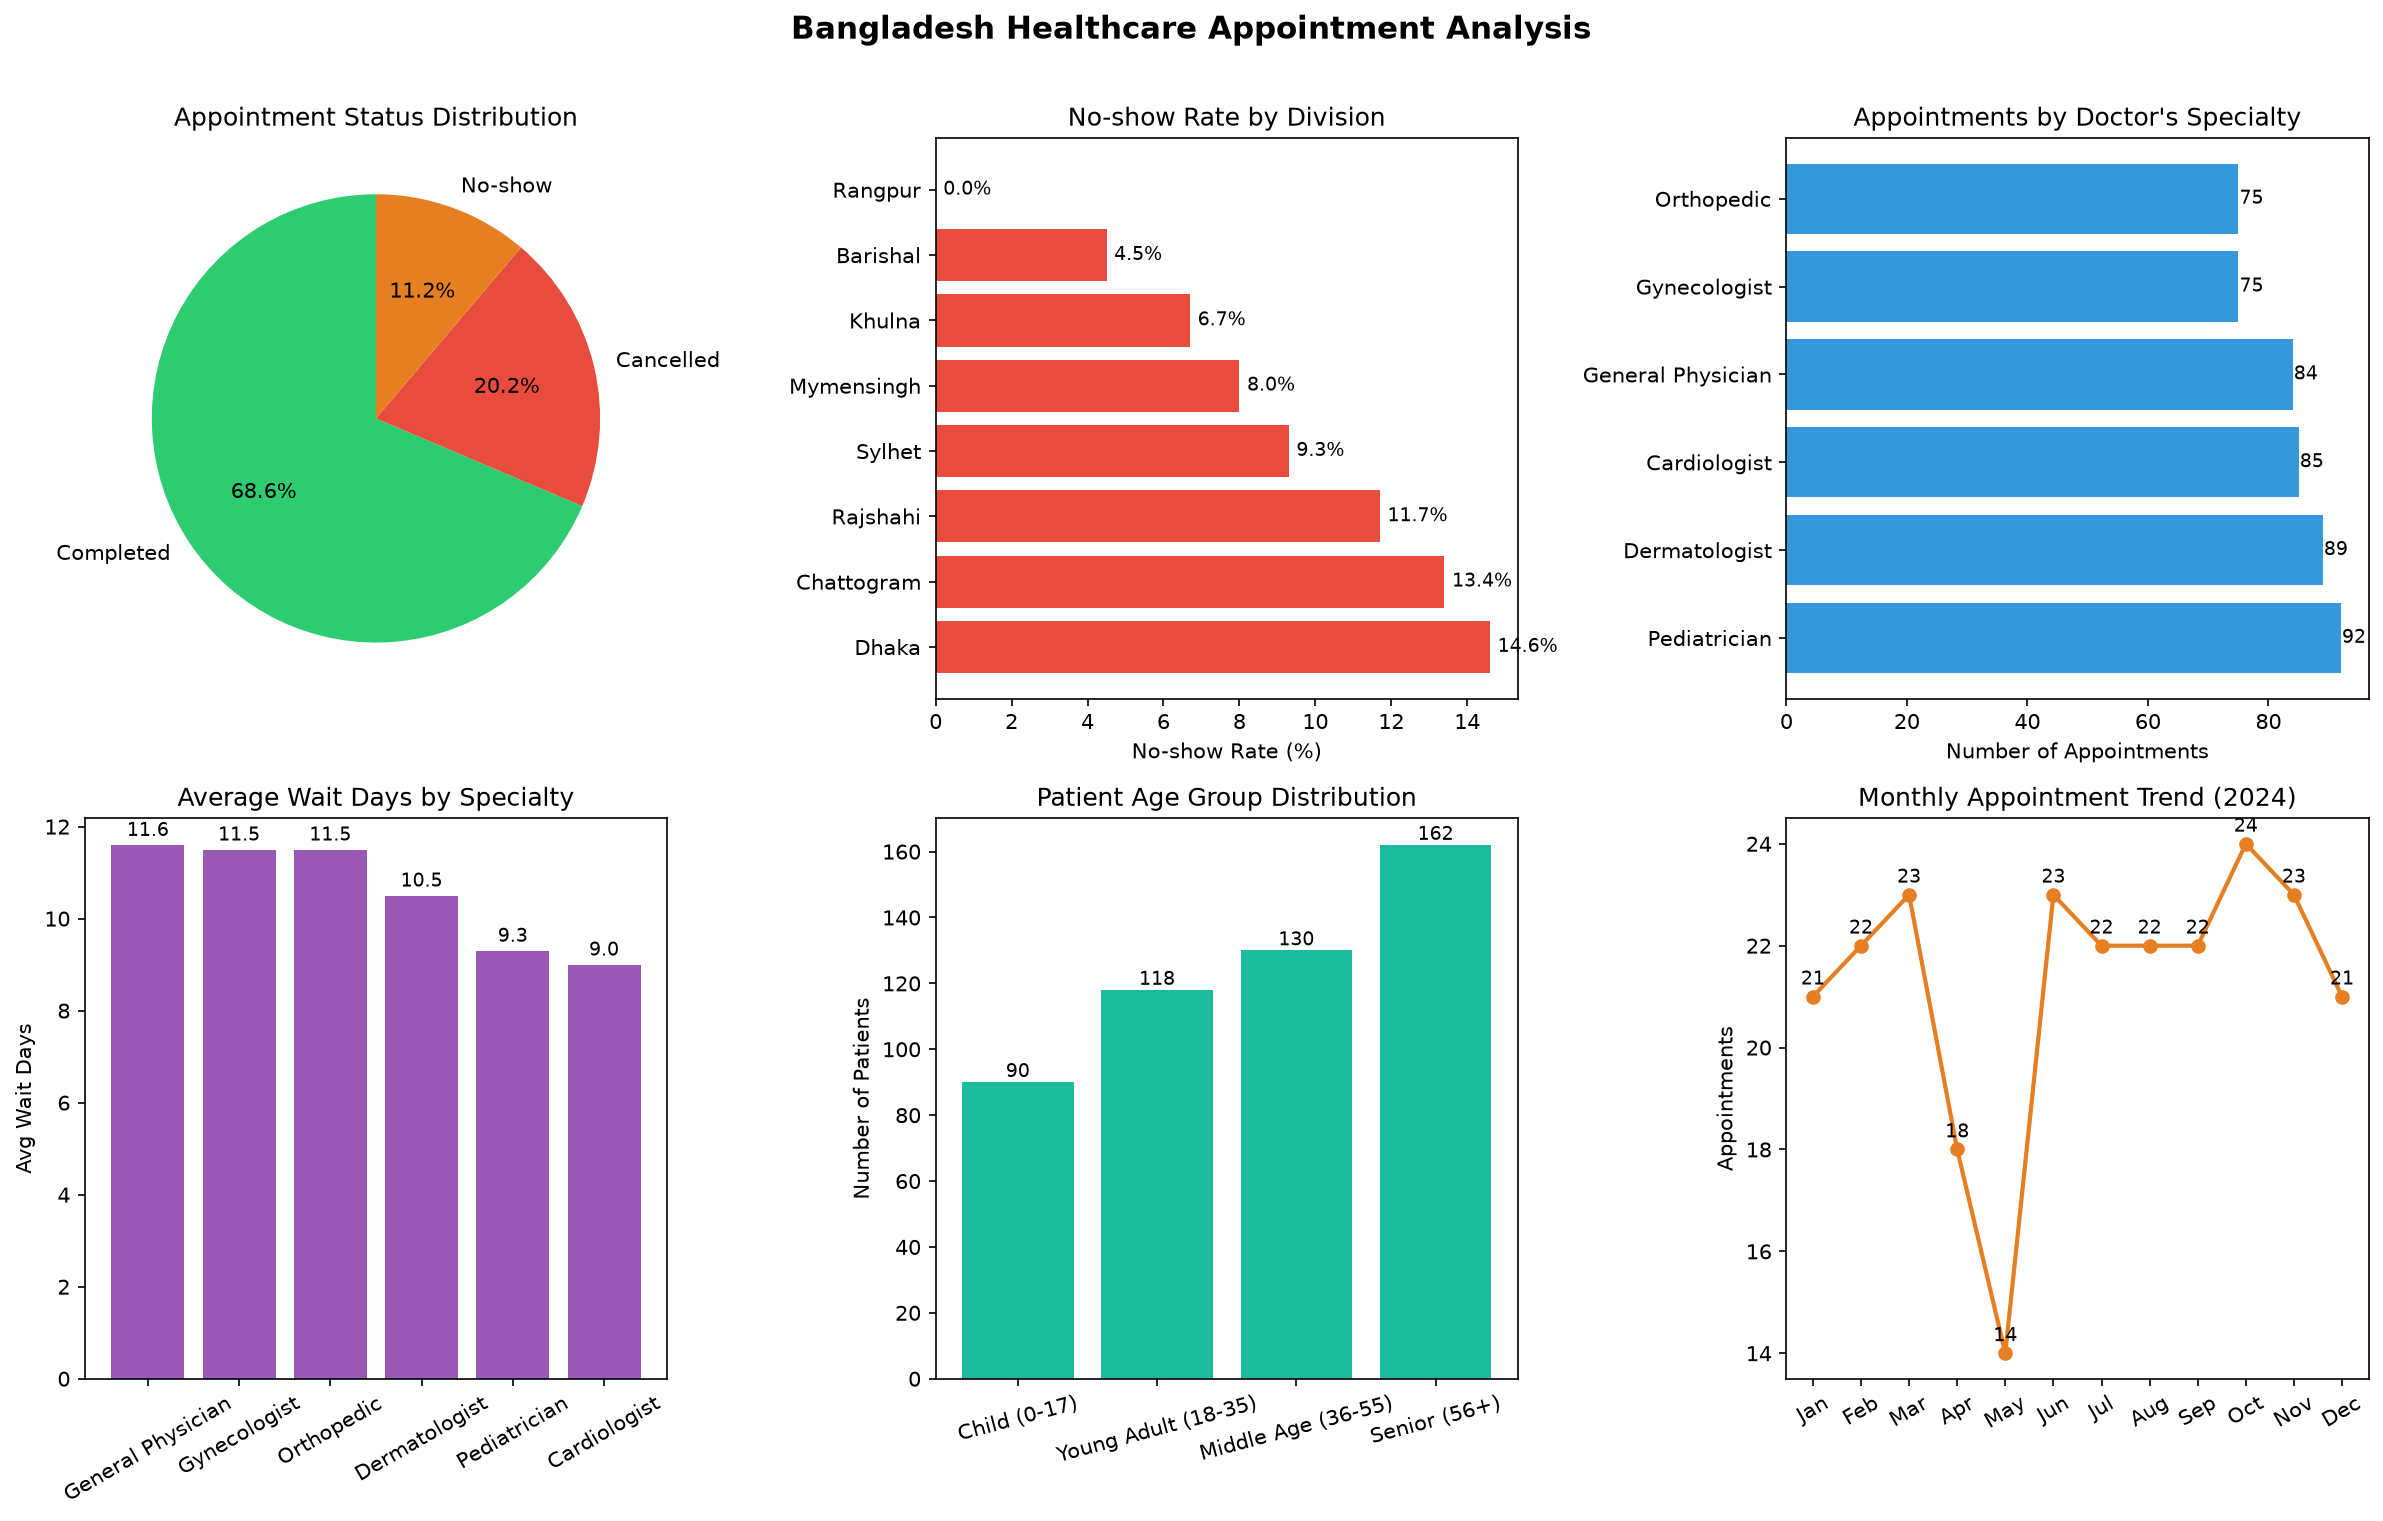

The page's visual inventory and layout, read from the dashboard file:
{"tool":"powerbi","page":{"name":"Page 1","canvas":[1900,1080],"ordinal":0},"visuals":[{"type":"pieChart","title":"Appointment Status Distribution","fields":{"Category":["appointments (2).appointment_status"],"Y":["CountNonNull(appointments (2).appointment_status)"]},"box":[47.4,32.9,494.7,280.3],"z":0},{"type":"tableEx","fields":{"Values":["appointments (2).division","appointments (2).No-show Rate %"]},"box":[26.3,360.5,494.7,280.3],"z":1},{"type":"clusteredBarChart","fields":{"Category":["appointments (2).division"],"Y":["appointments (2).No-show Rate %"]},"box":[627.6,13.2,493.4,280.3],"z":2},{"type":"clusteredBarChart","title":"Appointments by Doctor''s Specialty","fields":{"Category":["appointments (2).specialty"],"Y":["CountNonNull(appointments (2).specialty)"]},"box":[600,331.6,493.4,280.3],"z":3},{"type":"clusteredColumnChart","title":"Average wait days by specialty","fields":{"Category":["appointments (2).specialty"],"Y":["Avg(appointments (2).wait_days)"]},"box":[26.8,640.8,529.6,325.4],"z":4},{"type":"clusteredColumnChart","title":"Patient Age Group Distribution","fields":{"Category":["appointments (2).age_group"],"Y":["CountNonNull(appointments (2).age_group)"]},"box":[656.3,663.4,493,280.3],"z":5},{"type":"lineChart","title":"Monthly Appointment Trend","fields":{"Category":["appointments (2).Month Name"],"Y":["CountNonNull(appointments (2).Month Name)"]},"box":[1225.4,80.3,493,280.3],"z":6}]}

Visuals, with their boxes on the page's 1900x1080 design canvas (x1, y1, x2, y2). These are canvas units, not pixel positions in the 2383x1521 screenshot, which may show the page scaled, cropped or inside an application window:
"Appointment Status Distribution" pieChart: <box>47,33,542,313</box>
tableEx - appointments (2).division x appointments (2).No-show Rate %: <box>26,360,521,641</box>
clusteredBarChart - appointments (2).division x appointments (2).No-show Rate %: <box>628,13,1121,294</box>
"Appointments by Doctor''s Specialty" clusteredBarChart: <box>600,332,1093,612</box>
"Average wait days by specialty" clusteredColumnChart: <box>27,641,556,966</box>
"Patient Age Group Distribution" clusteredColumnChart: <box>656,663,1149,944</box>
"Monthly Appointment Trend" lineChart: <box>1225,80,1718,361</box>
